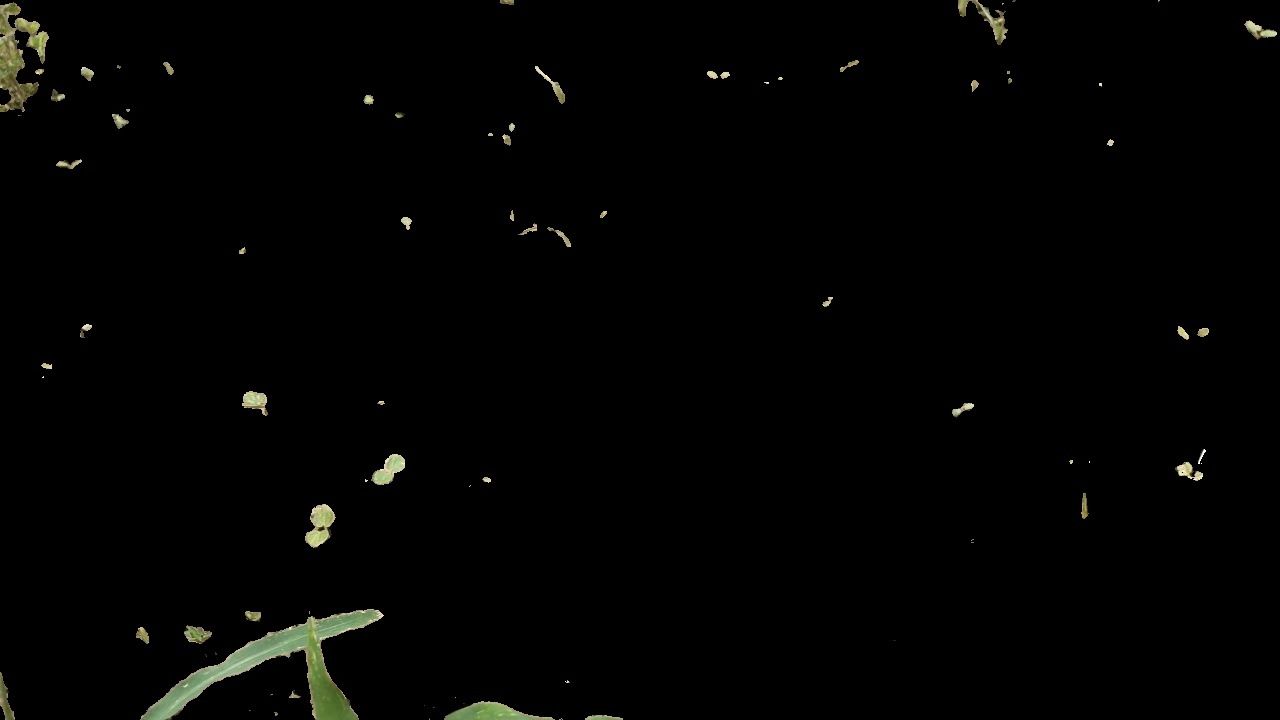crop: (66, 569, 642, 720)
weed: (1, 1, 65, 119), (296, 502, 342, 547), (362, 447, 408, 491), (936, 385, 978, 425), (1181, 305, 1216, 349), (1170, 450, 1203, 487), (181, 614, 212, 647), (239, 388, 273, 414)
